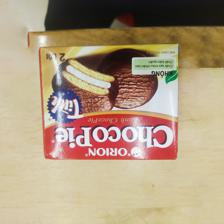Chocopie: (37, 40, 182, 164)
